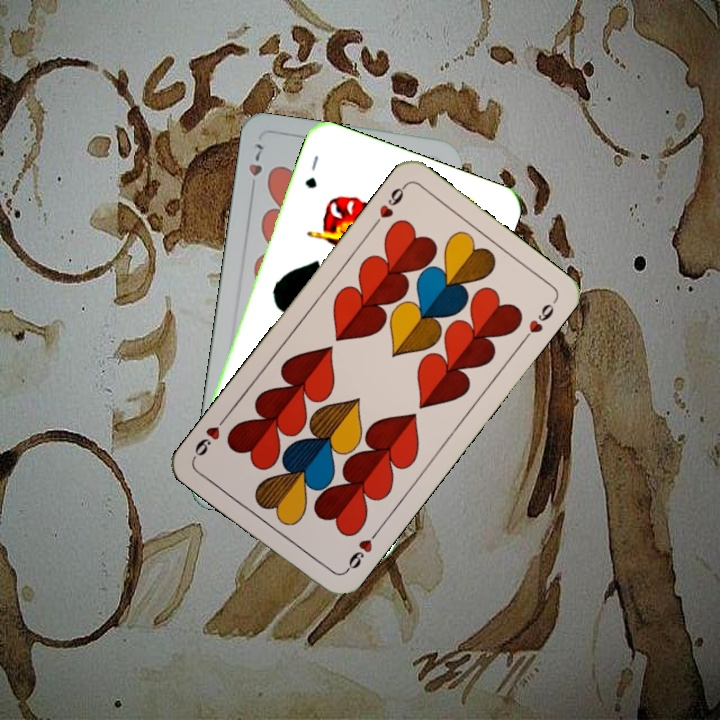GU: (300, 151, 321, 191)
H7: (244, 139, 266, 196)
H9: (340, 526, 382, 576), (368, 180, 409, 231)
